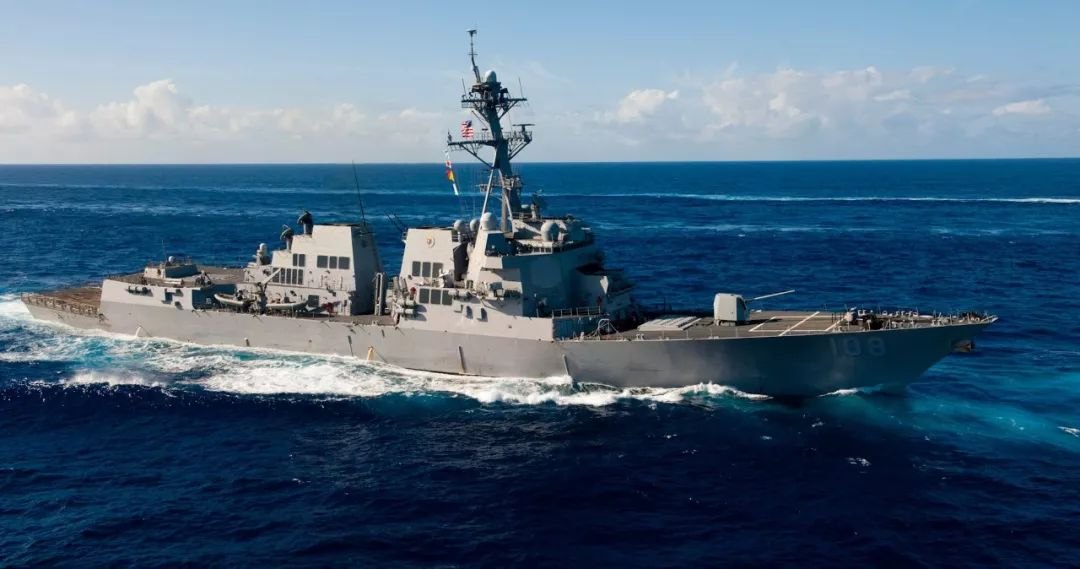warship: (17, 34, 1029, 401)
